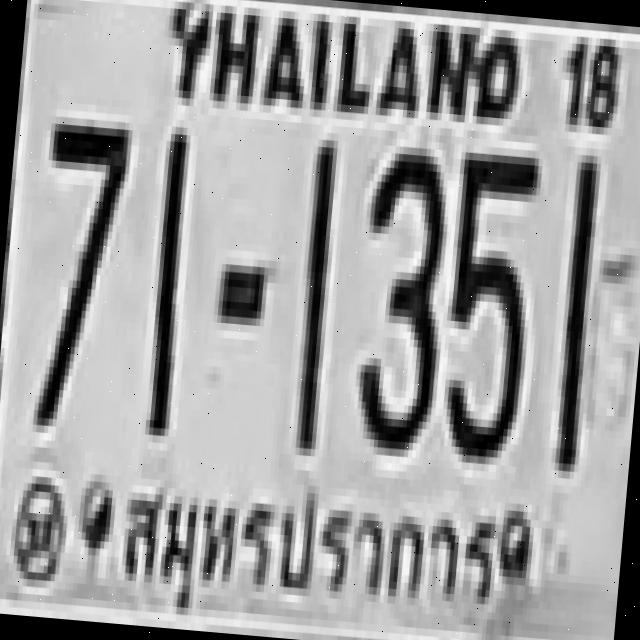1: (548, 150, 600, 468), (288, 139, 338, 449), (141, 130, 191, 432)
3: (346, 136, 450, 451)
5: (435, 144, 539, 459)
7: (26, 115, 128, 422)
SamutPrakan: (106, 455, 511, 640)
